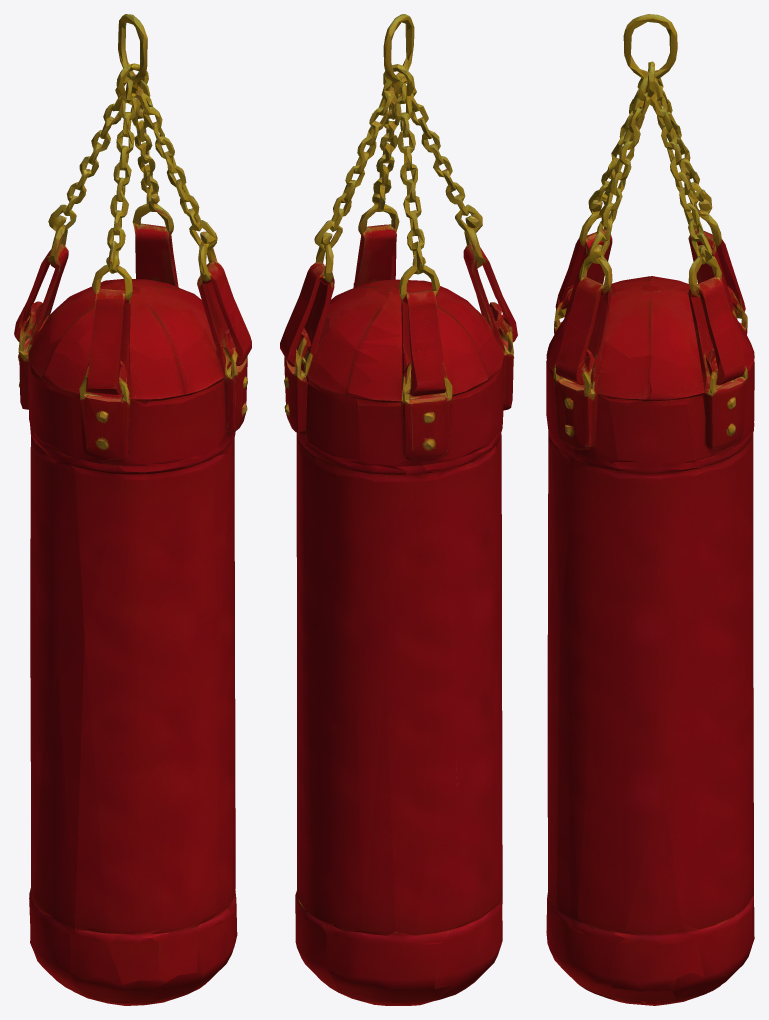
The model's file is bag.glb.
3 views of the same model, side by side, from view 1: azimuth 30°, elevation 25°; view 2: azimuth 150°, elevation 25°; view 3: azimuth 270°, elevation 25° (orthographic).
Bounding box in the file's own units: 0.3694 × 1.9 × 0.3693.
1 material, 1 textured.
